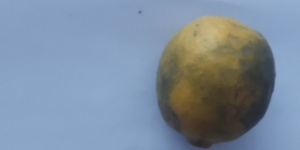BAD: (155, 12, 279, 150)
